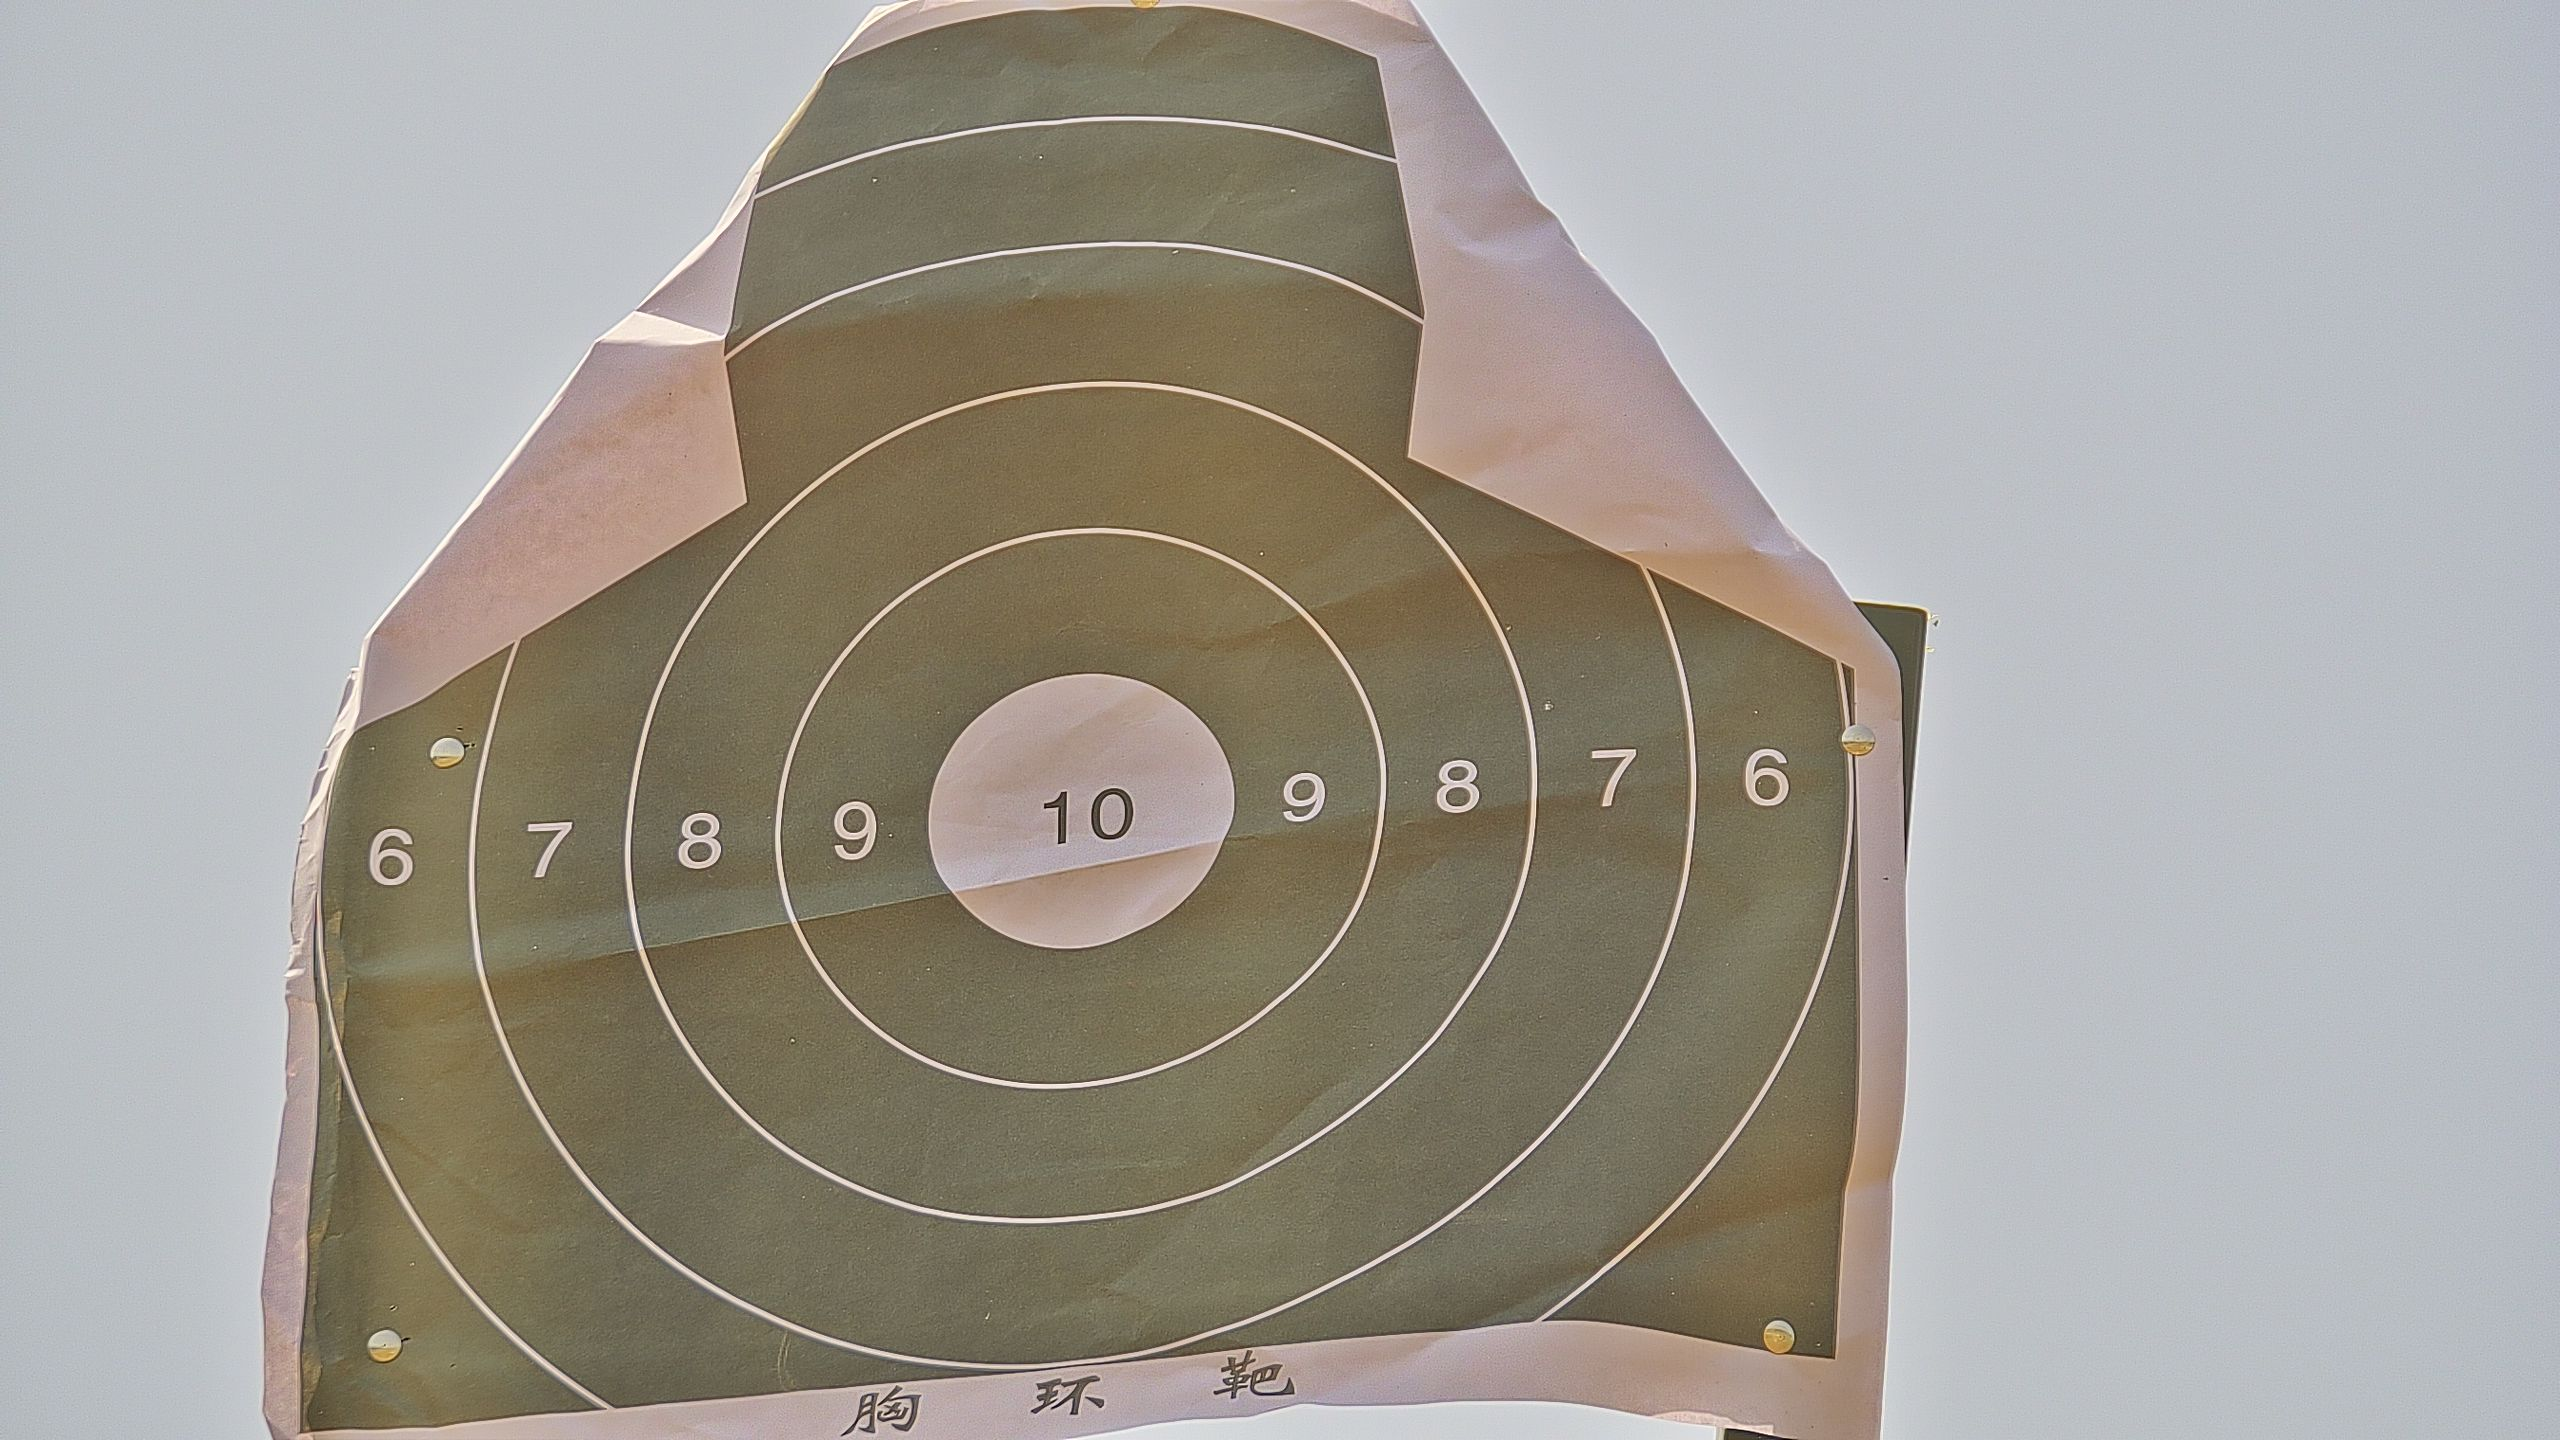kernel: (1073, 816, 1083, 825)
target: (304, 5, 1858, 1440)
ten: (927, 668, 1238, 955)
